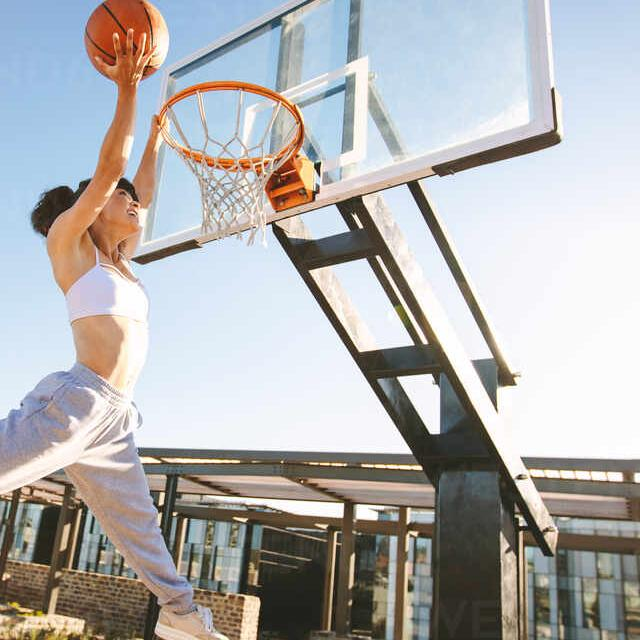basketball: (87, 0, 157, 79)
hoop: (164, 76, 302, 244)
